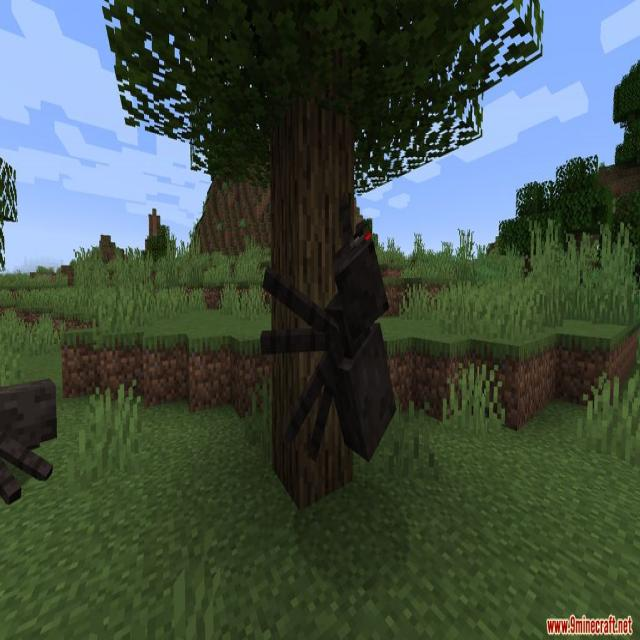Spider: (260, 185, 398, 463), (0, 376, 58, 504)
